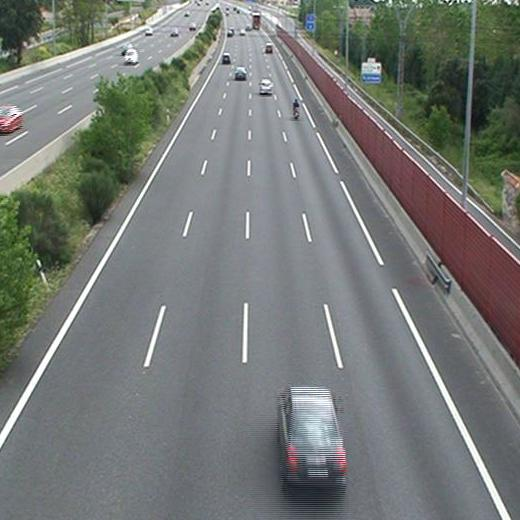car: (280, 389, 346, 480), (259, 79, 273, 95), (234, 67, 247, 79), (264, 43, 275, 53), (221, 53, 231, 63)
motorcycle: (291, 97, 302, 120)
